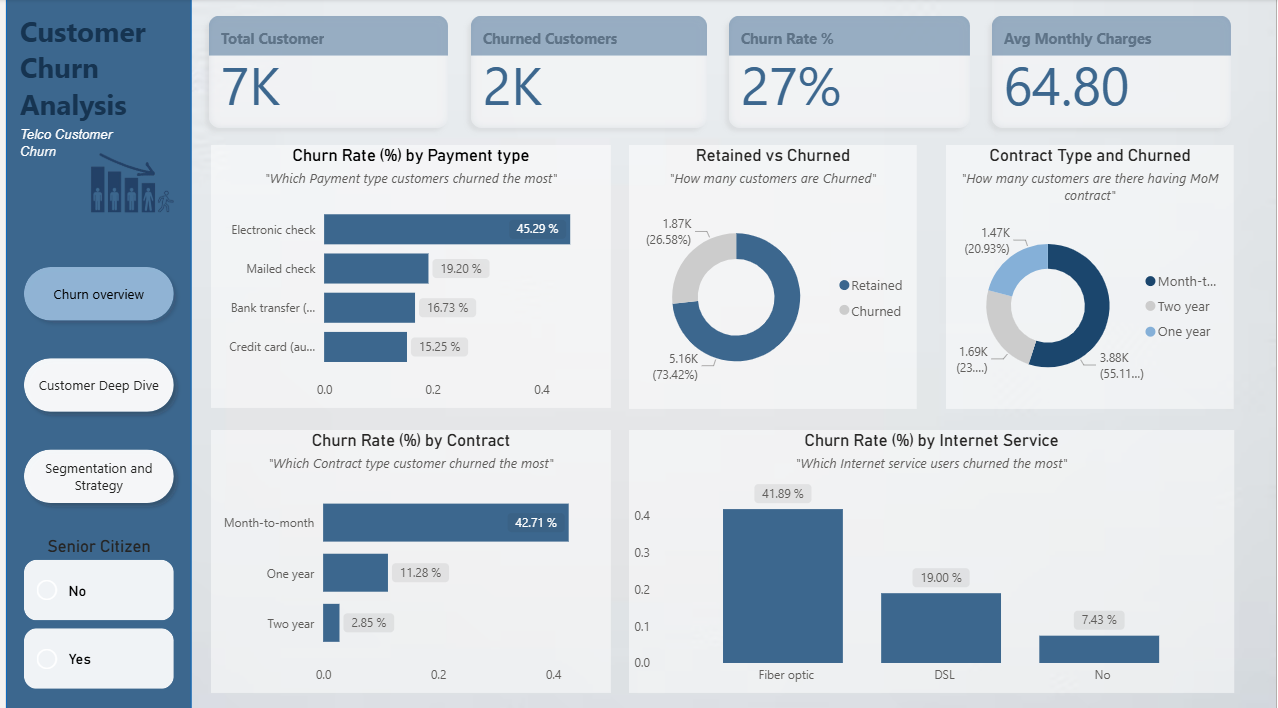

The page's visual inventory and layout, read from the dashboard file:
{"tool":"powerbi","page":{"name":"Churn overview","canvas":[1280,720],"ordinal":0},"visuals":[{"type":"shape","box":[0,0,187,720.1],"z":0,"group":"g1"},{"type":"cardVisual","fields":{"Data":["telco_churn_final.Total Customer"]},"box":[187,0,275.3,147.5],"z":0},{"type":"cardVisual","fields":{"Data":["telco_churn_final.Churned Customers"]},"box":[451.8,0,273,147.5],"z":1000},{"type":"pageNavigator","box":[9.3,261.3,169.6,256.7],"z":1000,"group":"g1"},{"type":"cardVisual","fields":{"Data":["telco_churn_final.Churn Rate %"]},"box":[712,0,277.6,147.5],"z":2000},{"type":"cardVisual","fields":{"Data":["telco_churn_final.Avg Monthly Charges"]},"box":[976.8,0,275.3,147.5],"z":3000},{"type":"clusteredBarChart","title":"Churn Rate (%)  by Contract","fields":{"Category":["telco_churn_final.Contract"],"Y":["telco_churn_final.Churn Rate %"]},"box":[206.8,434.4,403,264.8],"z":4000},{"type":"clusteredBarChart","title":"Churn Rate (%)  by Payment type","fields":{"Y":["telco_churn_final.Churn Rate %"],"Category":["telco_churn_final.Payment Method"]},"box":[206.8,147.5,403,264.8],"z":5000},{"type":"lineClusteredColumnComboChart","title":"Churn Rate (%)  by Internet Service","fields":{"Category":["telco_churn_final.Internet Service"],"Y":["telco_churn_final.Churn Rate %"]},"box":[628.4,434.4,609.8,264.8],"z":6000},{"type":"donutChart","title":"Retained vs Churned","fields":{"Category":["telco_churn_final.Churn Label name"],"Y":["CountNonNull(telco_churn_final.CustomerID)"]},"box":[628.4,147.5,290,266],"z":7000},{"type":"group","id":"g1","title":"Group 1","box":[0,0,187,720.1],"z":8000},{"type":"textbox","title":"Customer Churn Analysis","box":[9.3,12.8,169.6,120.8],"z":9000},{"type":"donutChart","title":"Contract Type and Churned","fields":{"Y":["CountNonNull(telco_churn_final.CustomerID)"],"Category":["telco_churn_final.Contract"]},"box":[947.8,147.5,290.4,266],"z":10000},{"type":"image","box":[48.8,105.7,158,155.6],"z":11000},{"type":"textbox","box":[9.3,122,109.2,61.6],"z":12000},{"type":"advancedSlicerVisual","fields":{"Values":["telco_churn_final.Dependents"]},"box":[13.1,540.2,161.3,159.2],"z":13000}]}

Visuals, with their boxes in screenshot pixels (x1, y1, x2, y2), scaled from the page's 1280x720 canvas onto the 1278x708 screenshot:
shape: [x1=0, y1=0, x2=187, y2=707]
cardVisual - telco_churn_final.Total Customer: [x1=187, y1=0, x2=462, y2=145]
cardVisual - telco_churn_final.Churned Customers: [x1=451, y1=0, x2=724, y2=145]
pageNavigator: [x1=9, y1=257, x2=179, y2=509]
cardVisual - telco_churn_final.Churn Rate %: [x1=711, y1=0, x2=988, y2=145]
cardVisual - telco_churn_final.Avg Monthly Charges: [x1=975, y1=0, x2=1250, y2=145]
"Churn Rate (%)  by Contract" clusteredBarChart: [x1=206, y1=427, x2=609, y2=688]
"Churn Rate (%)  by Payment type" clusteredBarChart: [x1=206, y1=145, x2=609, y2=405]
"Churn Rate (%)  by Internet Service" lineClusteredColumnComboChart: [x1=627, y1=427, x2=1236, y2=688]
"Retained vs Churned" donutChart: [x1=627, y1=145, x2=917, y2=407]
"Group 1" group: [x1=0, y1=0, x2=187, y2=707]
"Customer Churn Analysis" textbox: [x1=9, y1=13, x2=179, y2=131]
"Contract Type and Churned" donutChart: [x1=946, y1=145, x2=1236, y2=407]
image: [x1=49, y1=104, x2=206, y2=257]
textbox: [x1=9, y1=120, x2=118, y2=181]
advancedSlicerVisual - telco_churn_final.Dependents: [x1=13, y1=531, x2=174, y2=688]
